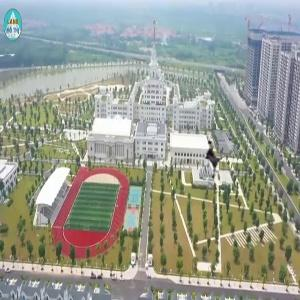drone: (189, 133, 240, 184)
